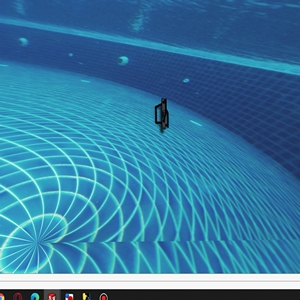submarine: (153, 97, 169, 131)
